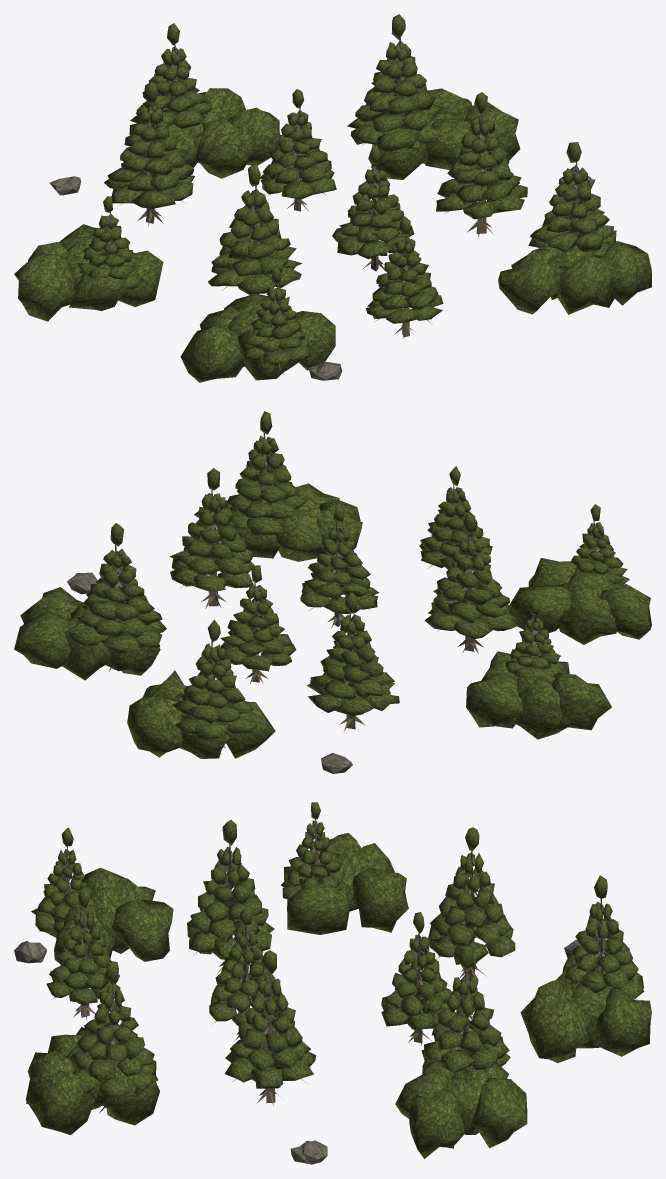
Rendered from forest_conifer_tile_a.gltf.
The picture shows the model from 3 angles, top to bottom: view 1: azimuth 30°, elevation 25°; view 2: azimuth 150°, elevation 25°; view 3: azimuth 270°, elevation 25°; orthographic projection. The views are drawn at different scales.
Visible parts, largest first — view 1: forest_conifer_tile_a_game; view 2: forest_conifer_tile_a_game; view 3: forest_conifer_tile_a_game.
Part boxes in pixels (left/top/right/bottom): forest_conifer_tile_a_game: left=14, top=14, right=651, bottom=382; forest_conifer_tile_a_game: left=14, top=411, right=651, bottom=773; forest_conifer_tile_a_game: left=14, top=802, right=651, bottom=1164.
Size of the model in its own units: 1.55 by 0.4205 by 1.41.
Materials: 3 (3 with a texture image).
